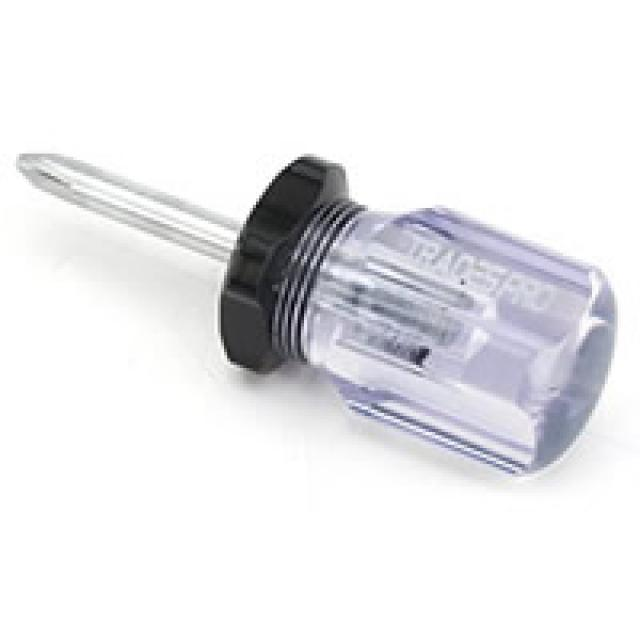screwdriver: (0, 115, 611, 477)
